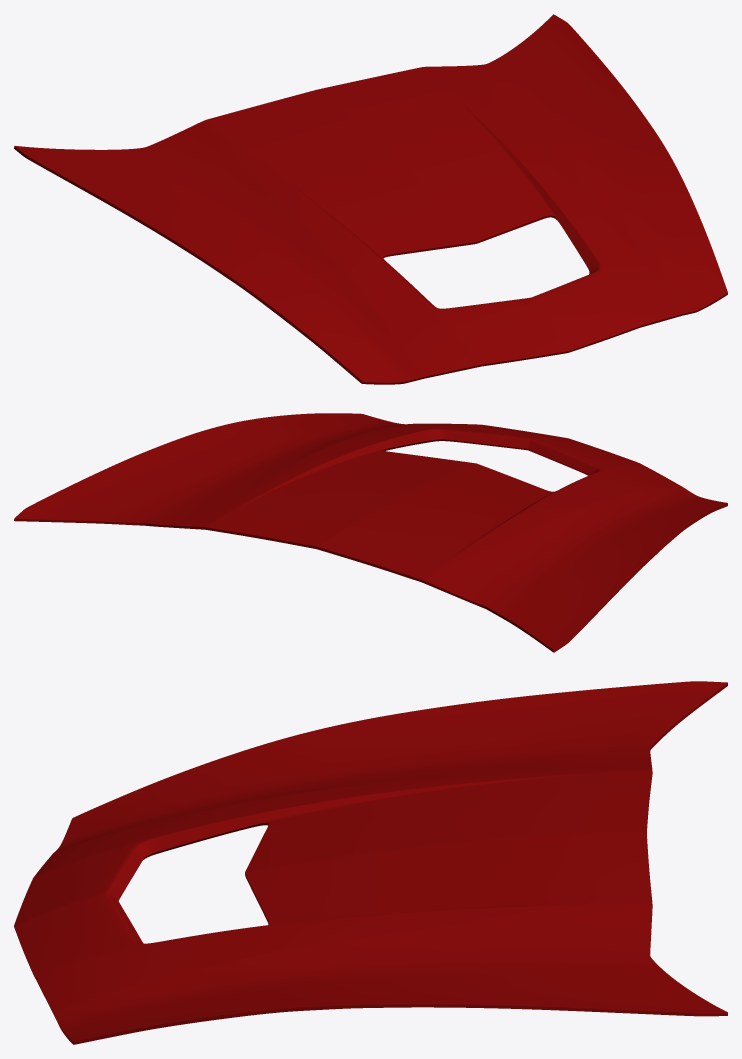
File: c7hood.glb
3 views of the same model, one above another, from view 1: azimuth 30°, elevation 25°; view 2: azimuth 150°, elevation 25°; view 3: azimuth 270°, elevation 25° (orthographic). The views are drawn at different scales.
Visible parts, largest first — view 1: Hood_Crysal_Red_0; view 2: Hood_Crysal_Red_0; view 3: Hood_Crysal_Red_0.
Part boxes in pixels (bbox=[...]): Hood_Crysal_Red_0: bbox=[14, 14, 727, 384]; Hood_Crysal_Red_0: bbox=[14, 413, 727, 652]; Hood_Crysal_Red_0: bbox=[14, 681, 727, 1044].
Bounding box in the file's own units: 1.44 × 0.2215 × 1.31.
